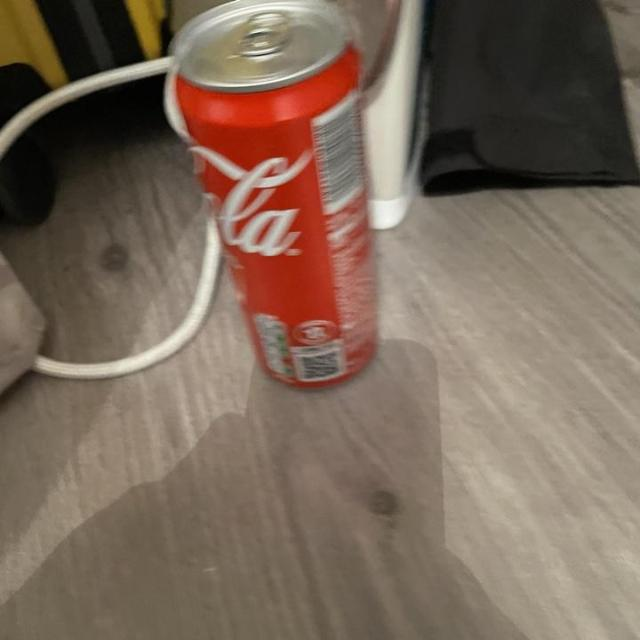can: (166, 2, 417, 414)
